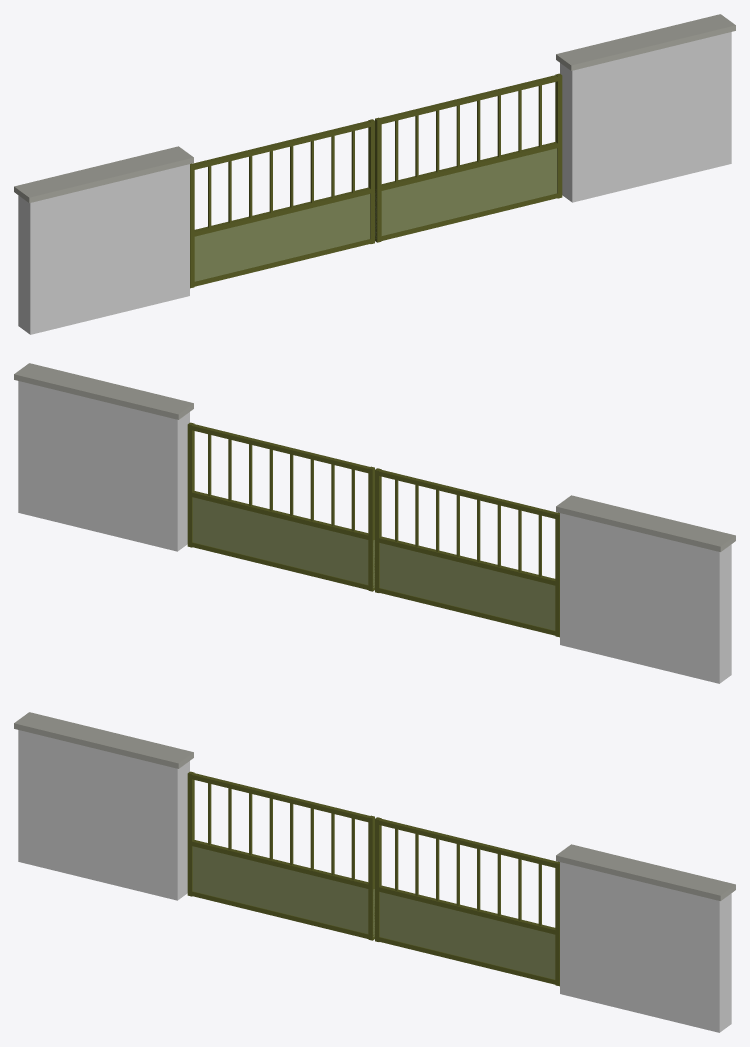
File: SM_PuertaValla_v1_LOD0.fbx
3 views of the same model, one above another, from view 1: azimuth 30°, elevation 25°; view 2: azimuth 150°, elevation 25°; view 3: azimuth 330°, elevation 25° (orthographic).
Parts seen in each view (by area): view 1: SM_bloques.puerta_valla_v1_LOD0, Hoja_E, Hoja_O; view 2: SM_bloques.puerta_valla_v1_LOD0, Hoja_E, Hoja_O; view 3: SM_bloques.puerta_valla_v1_LOD0, Hoja_O, Hoja_E.
Part boxes in pixels (bbox=[...]): SM_bloques.puerta_valla_v1_LOD0: bbox=[14, 14, 735, 334]; Hoja_E: bbox=[375, 73, 562, 242]; Hoja_O: bbox=[190, 119, 374, 288]; SM_bloques.puerta_valla_v1_LOD0: bbox=[14, 363, 735, 683]; Hoja_E: bbox=[187, 422, 374, 591]; Hoja_O: bbox=[375, 468, 559, 637]; SM_bloques.puerta_valla_v1_LOD0: bbox=[14, 712, 735, 1032]; Hoja_O: bbox=[187, 771, 374, 940]; Hoja_E: bbox=[375, 817, 559, 986].
Size of the model in its own units: 13.3 by 2.5 by 0.5.
